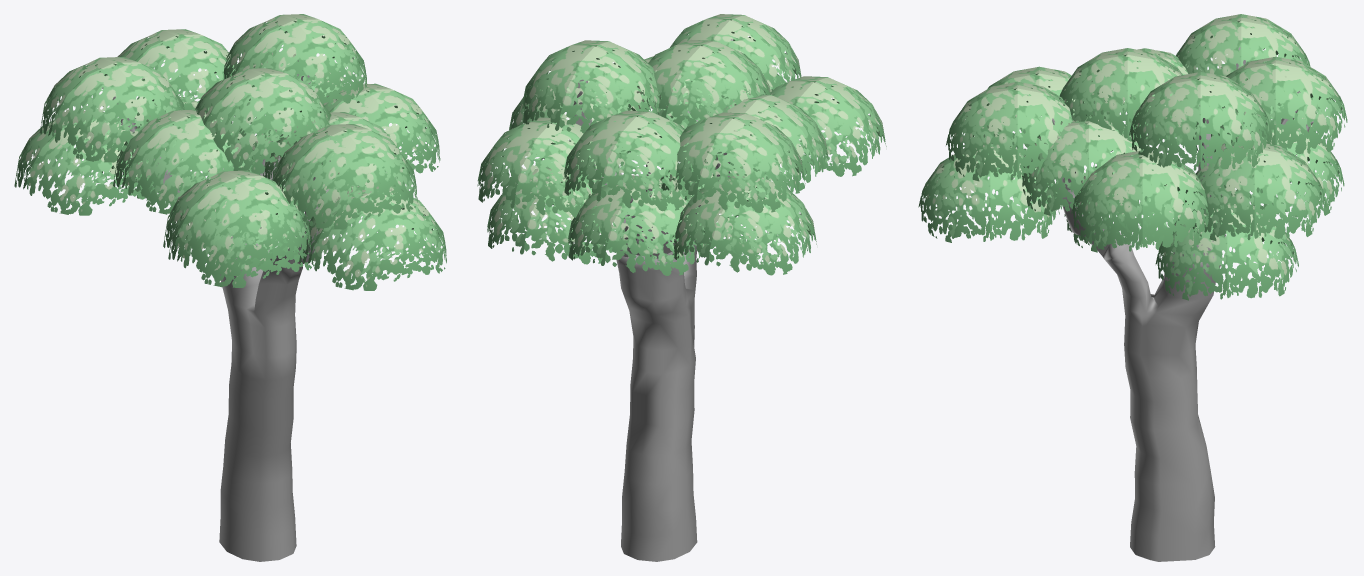
Rendered from TreewithLeaves.fbx.
3 renders of one model, left to right at view 1: azimuth 30°, elevation 25°; view 2: azimuth 150°, elevation 25°; view 3: azimuth 270°, elevation 25°, orthographic.
Visible parts, largest first — view 1: Mesh_TreeAndLeaves; view 2: Mesh_TreeAndLeaves; view 3: Mesh_TreeAndLeaves.
Boxes of the visible parts, x1,y1,x2,y2 form: Mesh_TreeAndLeaves: (14,14,446,561); Mesh_TreeAndLeaves: (477,14,886,561); Mesh_TreeAndLeaves: (918,14,1347,561).
Size of the model in its own units: 1424 by 1939 by 1547.
